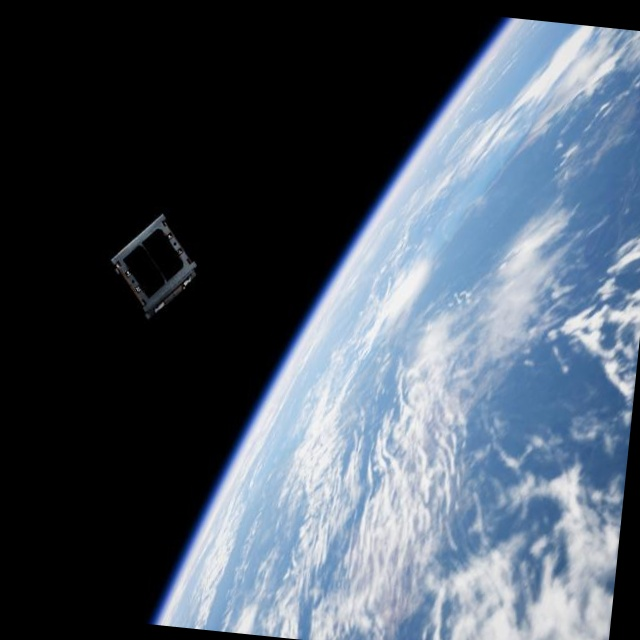medium_debris: (104, 203, 211, 326)
